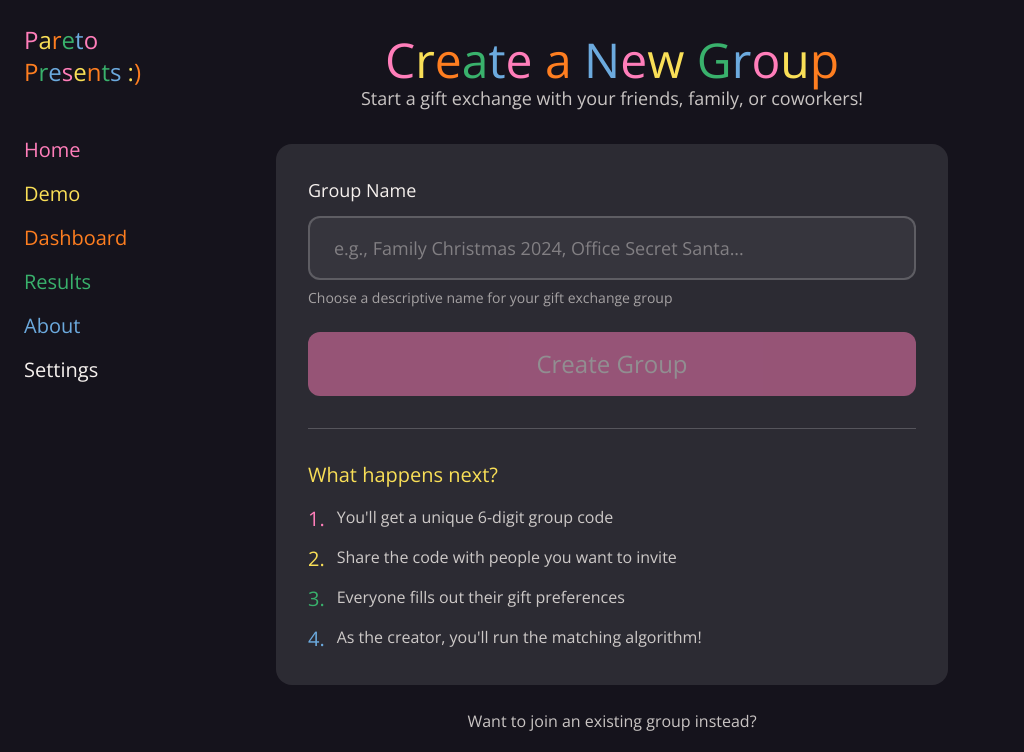
Test: CreateGroupPage › Group creation flow › shows error when group creation fails
Type "My Test Group" into the field with placeholder "e.g., Family Christmas 2024, Office Secret Santa..." at x=612, y=248, box [308,216,916,280]
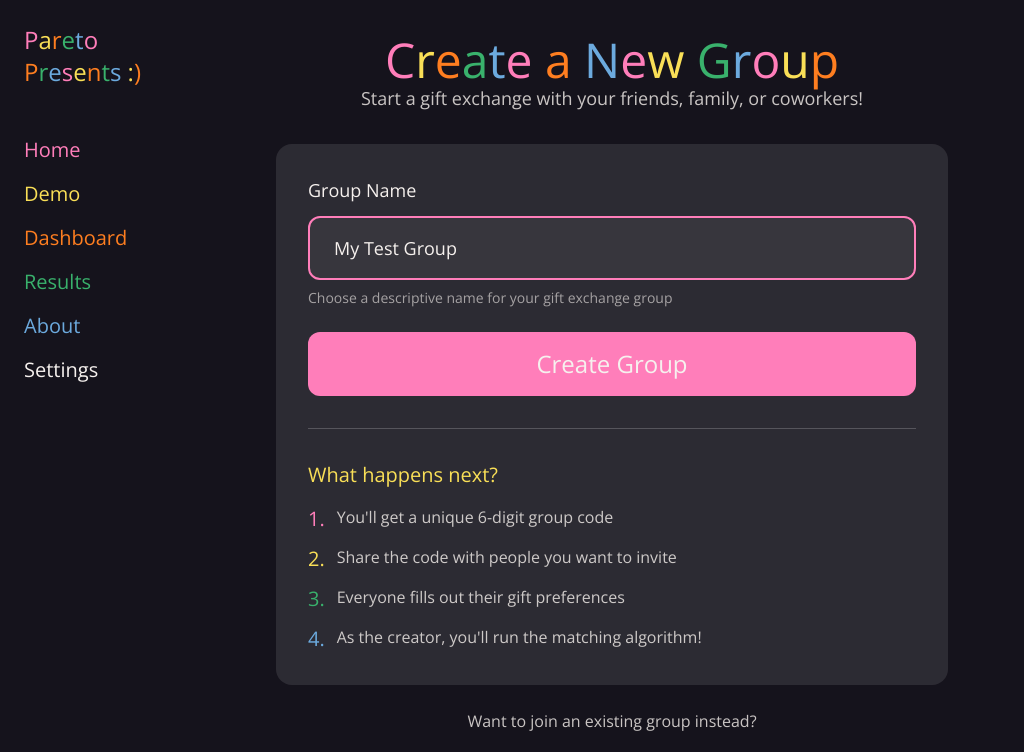
Click the button "Create Group" at x=612, y=364, box [308,332,916,396]
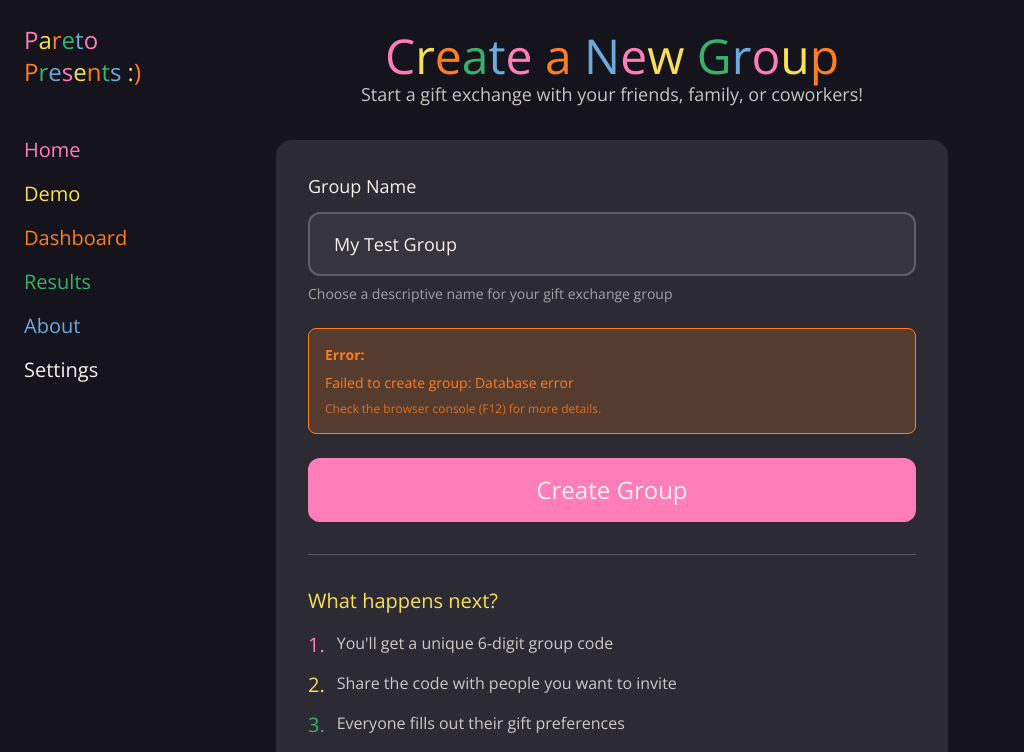
Now the text "Failed to create group: Database error" is shown, box [325,373,574,392]
